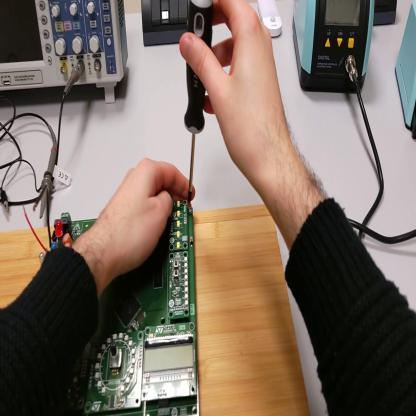hand: (179, 5, 290, 178), (98, 157, 196, 281)
low voltage board: (24, 188, 202, 416)
oscilloscope: (2, 2, 130, 106)
oscilloscope probe tip: (41, 127, 56, 220)
screwdriver-: (185, 1, 213, 211)
socket: (374, 1, 398, 26)
welder base: (397, 2, 416, 143)
welder station: (294, 1, 376, 97)
working area: (2, 205, 312, 416)
